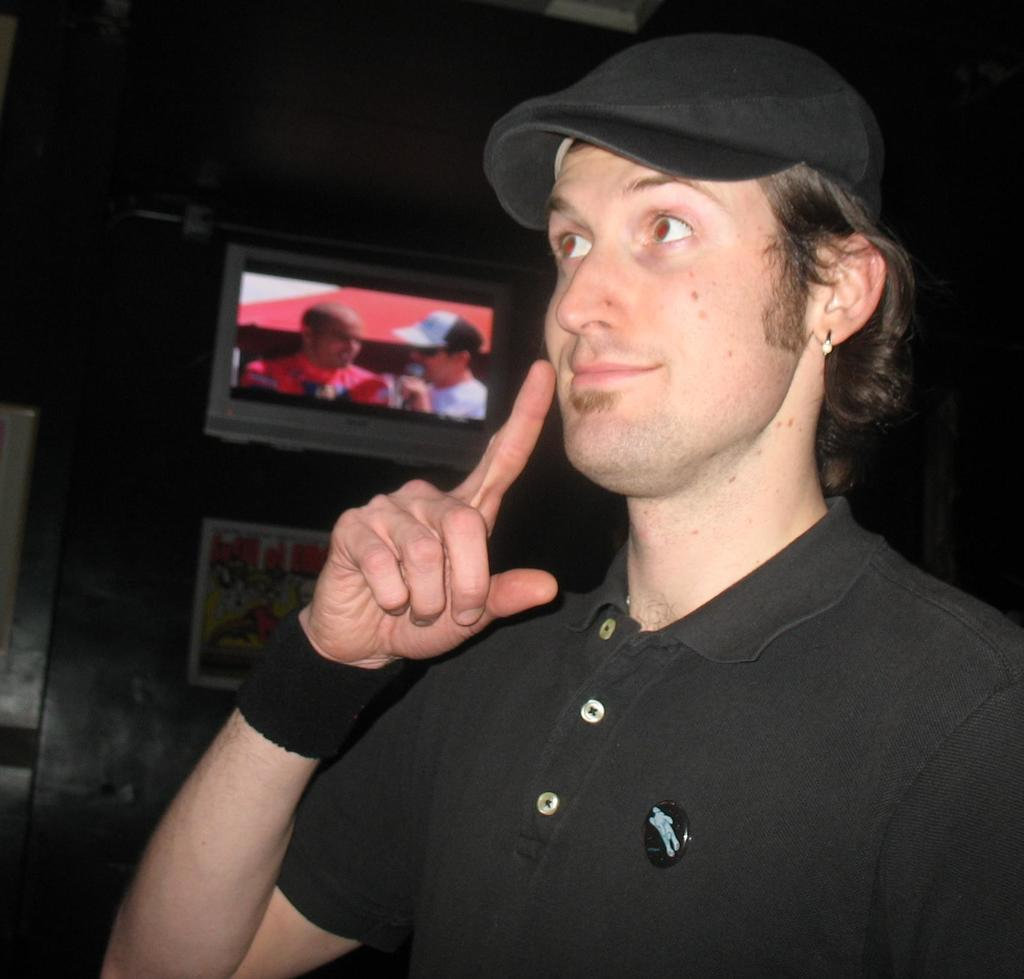Hat: (390, 308, 485, 350)
